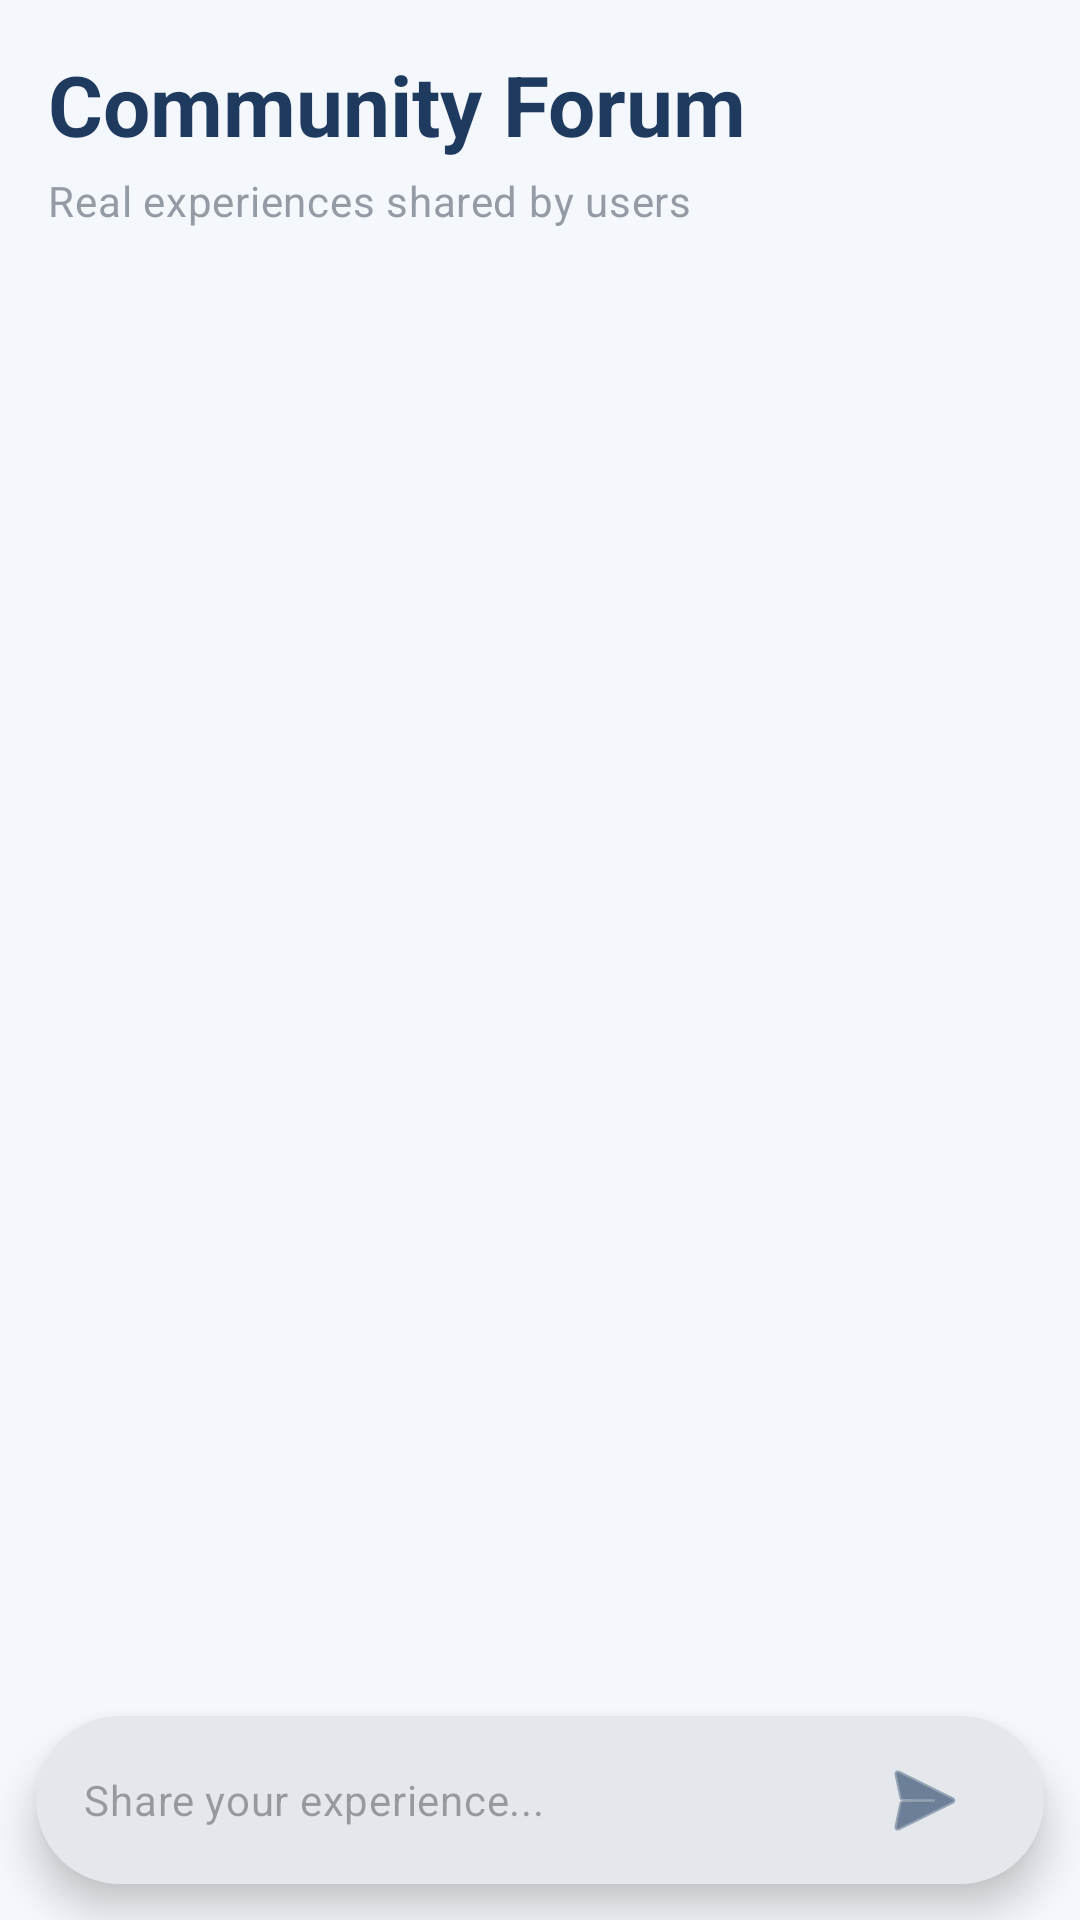

Point at icon controls on the screen. Image size 1080px×1920px, points as [x,y].
Post: [925,1800]
